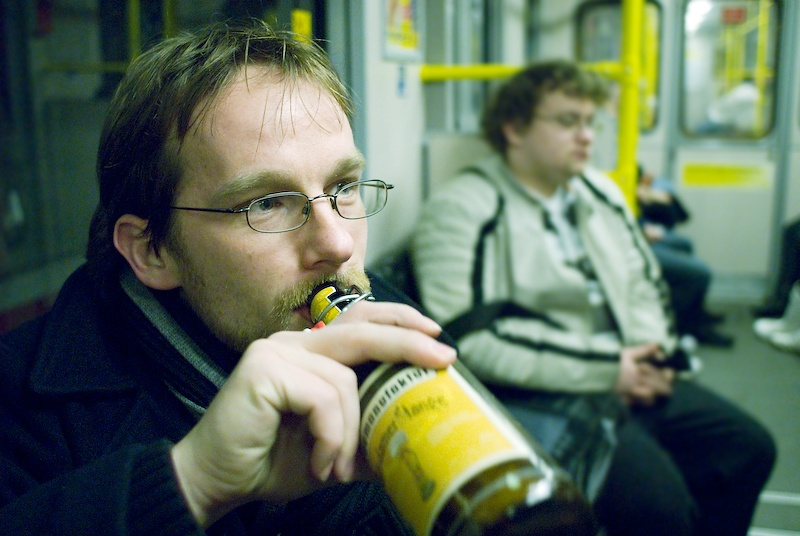Mask: (219, 150, 449, 380)
